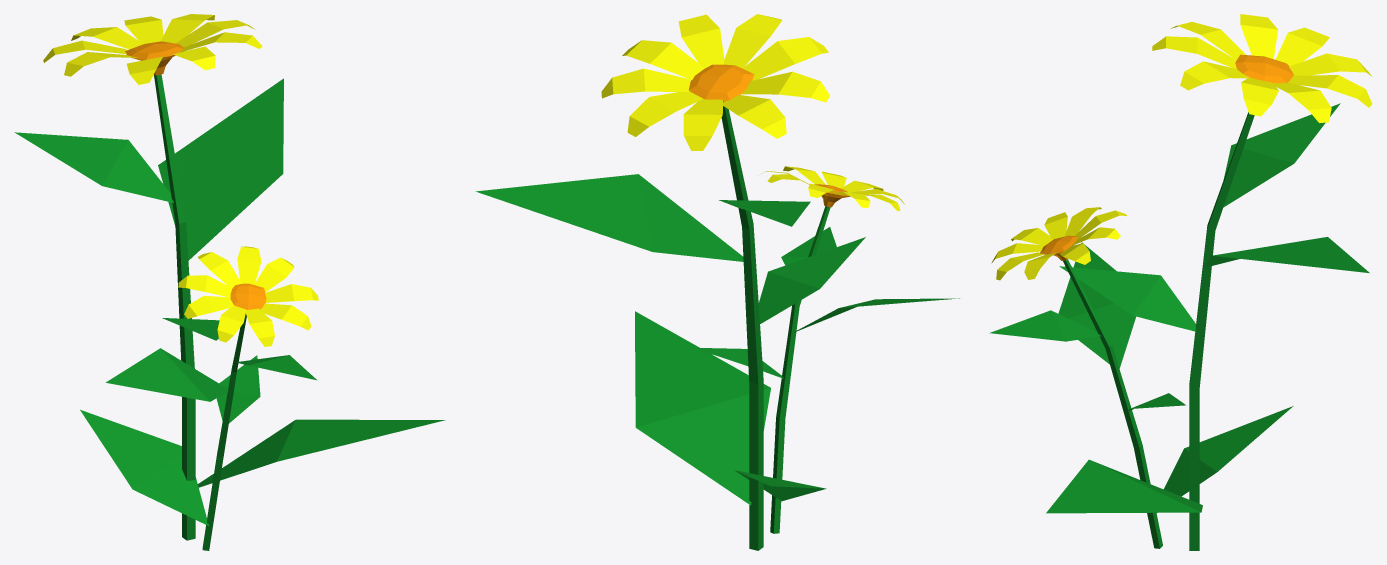
The model's file is Flower Yellow.fbx.
3 views of the same model, side by side, from view 1: azimuth 30°, elevation 25°; view 2: azimuth 150°, elevation 25°; view 3: azimuth 270°, elevation 25° (orthographic). The views are drawn at different scales.
Visible parts, largest first — view 1: Floweryellow; view 2: Floweryellow; view 3: Floweryellow.
Boxes of the visible parts, x1,y1,x2,y2 form: Floweryellow: (14,14,445,550); Floweryellow: (475,14,959,550); Floweryellow: (989,14,1372,550).
Bounding box in the file's own units: 133 × 192 × 132.
1 material, 1 textured.
